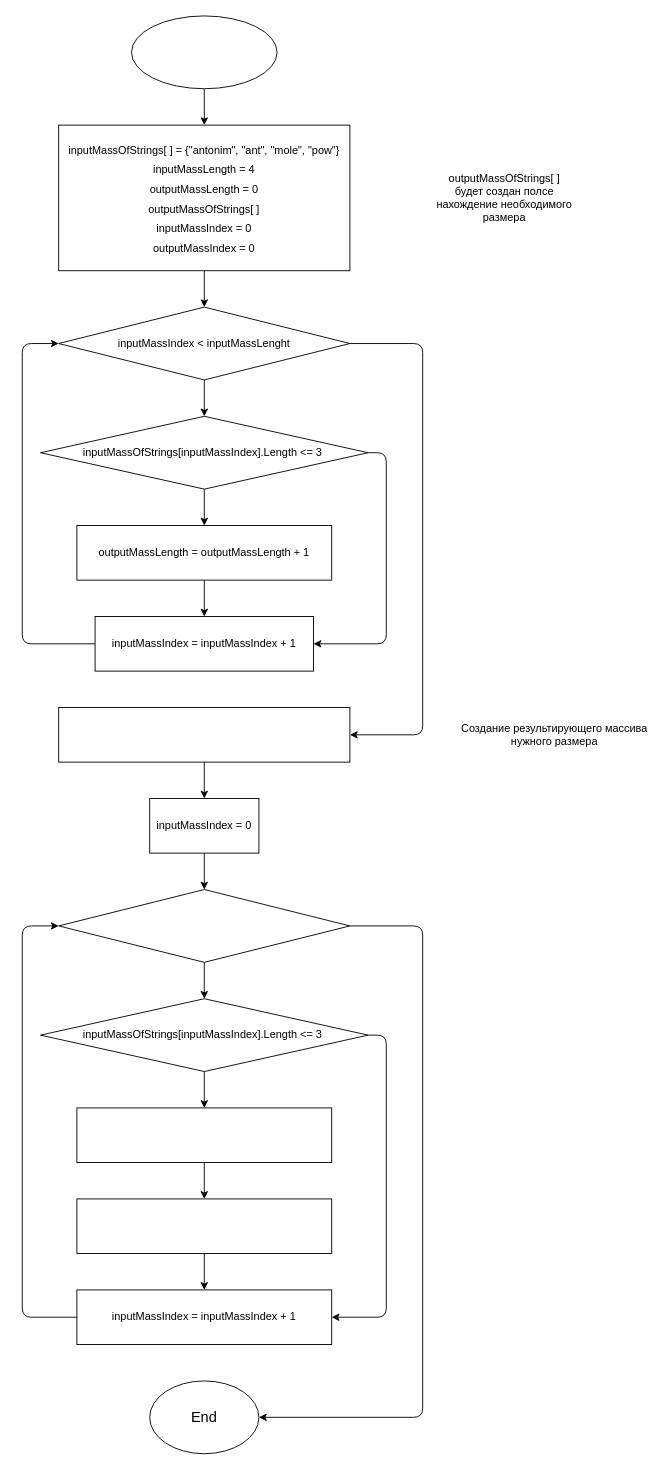
This 666x1470 diagram has some shape labels left out. The shapes that lost their labels are listed below. From the top down, each one's centre as x and y in pixels, then its label:
At point 204,52: "Start".
At point 204,734: "outputMassOfStrings[ ] = new string[ outputMassLength ]".
At point 204,925: "outputMassIndex < outputMassLength".
At point 204,1135: "outputMassOfStrings[ outputMassIndex ] = inputMassOfStrings[ inputMassIndex ]".
At point 204,1226: "outputMassIndex = outputMassIndex + 1".
